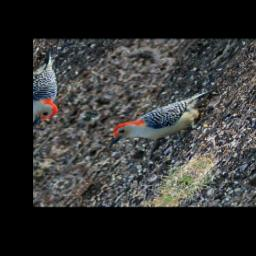Woodpecker: (100, 78, 233, 161)
